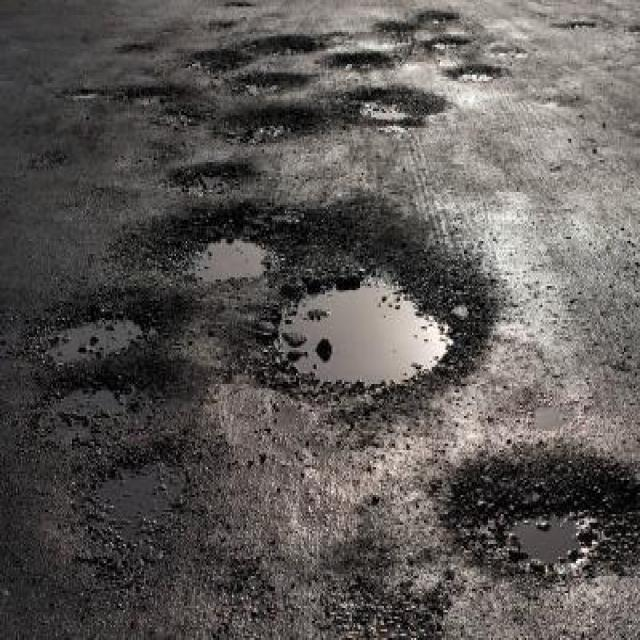pothole: (250, 208, 500, 406), (445, 448, 640, 585), (62, 438, 202, 600), (29, 363, 189, 448), (112, 202, 280, 282), (31, 290, 190, 369), (216, 100, 328, 150), (123, 72, 211, 130), (342, 83, 453, 128), (165, 158, 264, 194), (185, 45, 252, 77), (322, 47, 396, 75), (252, 32, 326, 58), (446, 62, 501, 84), (378, 17, 416, 34), (422, 8, 460, 22), (434, 34, 474, 47)
